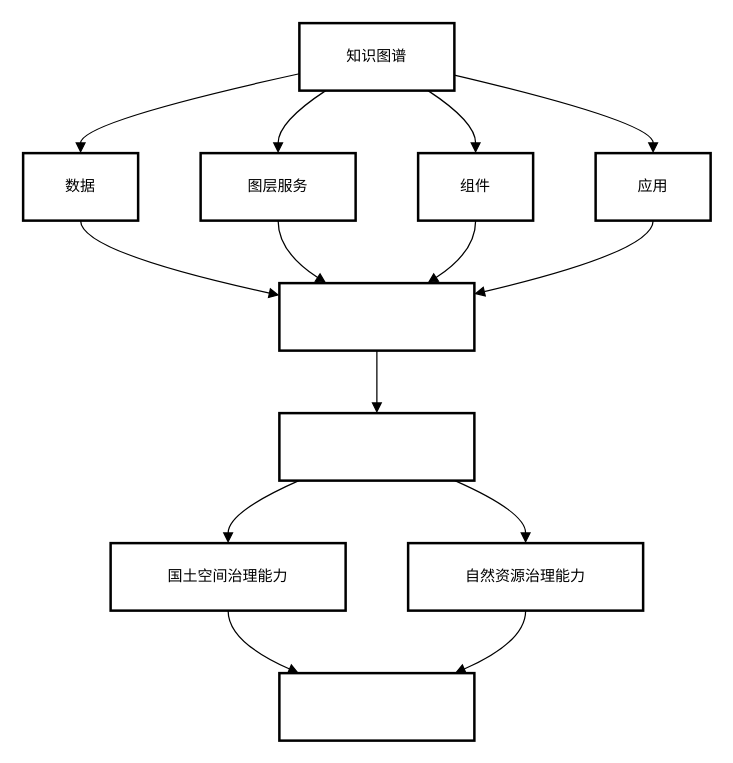
Image size: 733x763. Some labels were removed from this diagram. The shapes that lost their labels are listed below. From the top down, each one's box as (x1, y1, x2, y2) in pixels, then its label:
(278, 281, 475, 351): 知识血缘关系
(278, 411, 475, 481): 溯源基础能力
(278, 671, 475, 741): 提升治理能力
